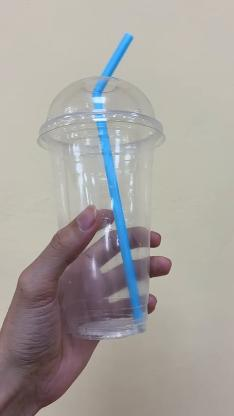Plastic Cup: (37, 77, 165, 337)
